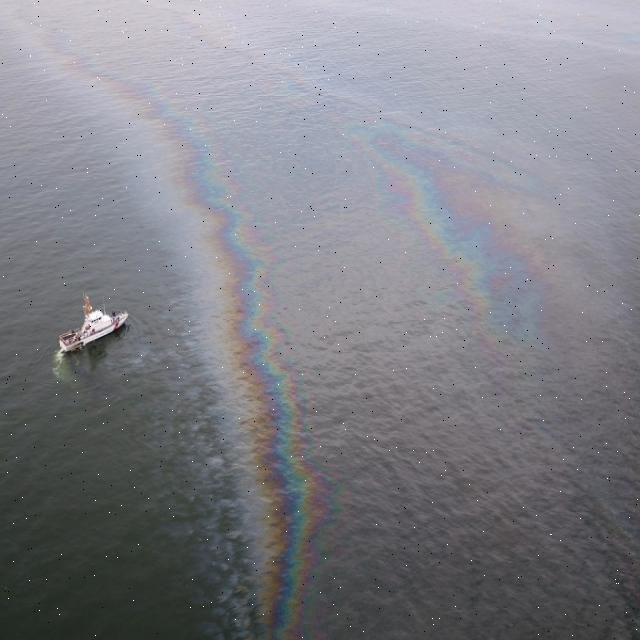oil spill: (41, 31, 329, 638), (135, 117, 275, 629), (348, 124, 573, 360)
